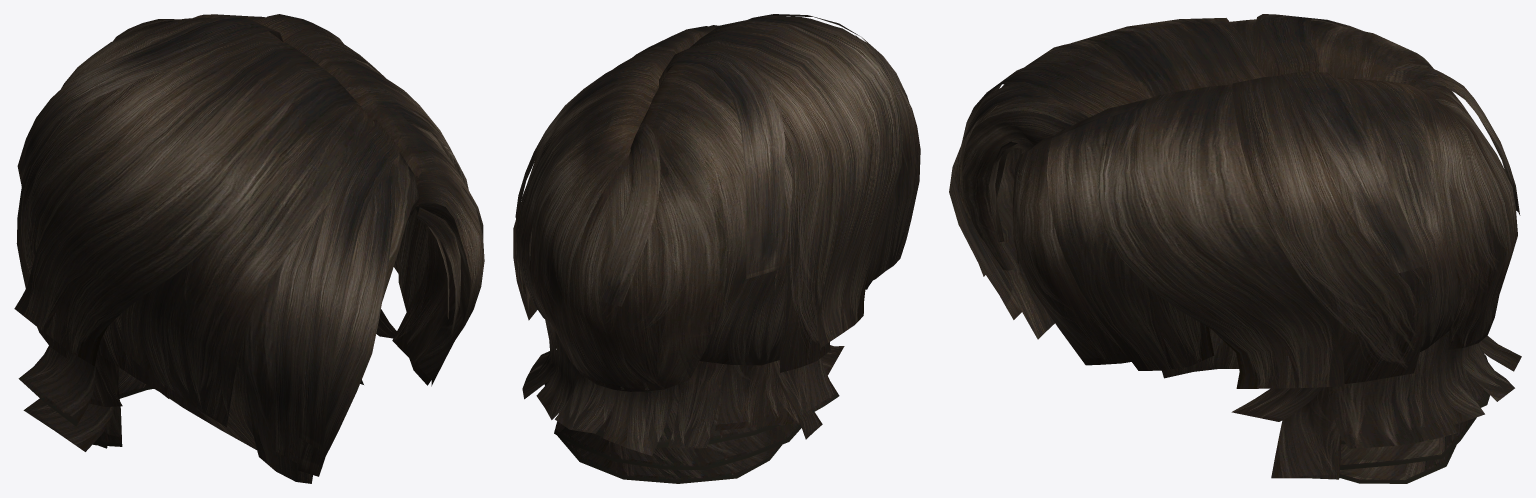
File: hair.obj
3 renders of one model, left to right at view 1: azimuth 30°, elevation 25°; view 2: azimuth 150°, elevation 25°; view 3: azimuth 270°, elevation 25°, orthographic. The views are drawn at different scales.
Parts seen in each view (by area): view 1: leon_RE6:head_group_98, leon_RE6:head_group_97, leon_RE6:head_group_101, leon_RE6:head_group_84, leon_RE6:head_group_96, leon_RE6:head_group_95, leon_RE6:head_group_86, leon_RE6:head_group_94, leon_RE6:head_group_49, leon_RE6:head_group_77, leon_RE6:head_group_92, leon_RE6:head_group_93 (+7 smaller); view 2: leon_RE6:head_group_82, leon_RE6:head_group_83, leon_RE6:head_group_98, leon_RE6:head_group_101, leon_RE6:head_group_84, leon_RE6:head_group_81, leon_RE6:head_group_76, leon_RE6:head_group_97, leon_RE6:head_group_79, leon_RE6:head_group_78, leon_RE6:head_group_77, leon_RE6:head_group_80; view 3: leon_RE6:head_group_98, leon_RE6:head_group_84, leon_RE6:head_group_101, leon_RE6:head_group_83, leon_RE6:head_group_93, leon_RE6:head_group_82, leon_RE6:head_group_76, leon_RE6:head_group_92, leon_RE6:head_group_87, leon_RE6:head_group_81, leon_RE6:head_group_75, leon_RE6:head_group_61 (+6 smaller).
Boxes of the visible parts, x1,y1,x2,y2 form: leon_RE6:head_group_98: (14, 42, 468, 366); leon_RE6:head_group_97: (121, 104, 374, 427); leon_RE6:head_group_101: (17, 14, 400, 451); leon_RE6:head_group_84: (16, 29, 385, 358); leon_RE6:head_group_96: (298, 154, 399, 476); leon_RE6:head_group_95: (272, 205, 327, 462); leon_RE6:head_group_86: (99, 208, 428, 449); leon_RE6:head_group_94: (244, 230, 359, 483); leon_RE6:head_group_49: (392, 227, 462, 385); leon_RE6:head_group_77: (18, 346, 95, 426); leon_RE6:head_group_92: (415, 170, 484, 386); leon_RE6:head_group_93: (343, 86, 483, 237); leon_RE6:head_group_82: (529, 124, 726, 391); leon_RE6:head_group_83: (516, 64, 792, 365); leon_RE6:head_group_98: (632, 17, 902, 347); leon_RE6:head_group_101: (515, 14, 909, 306); leon_RE6:head_group_84: (513, 45, 841, 372); leon_RE6:head_group_81: (536, 330, 726, 455); leon_RE6:head_group_76: (522, 222, 844, 430); leon_RE6:head_group_97: (763, 16, 920, 282); leon_RE6:head_group_79: (554, 416, 801, 469); leon_RE6:head_group_78: (557, 435, 781, 483); leon_RE6:head_group_77: (774, 358, 839, 419); leon_RE6:head_group_80: (544, 342, 797, 447); leon_RE6:head_group_98: (1071, 18, 1344, 388); leon_RE6:head_group_84: (1230, 19, 1423, 383); leon_RE6:head_group_101: (960, 14, 1520, 276); leon_RE6:head_group_83: (1310, 20, 1460, 351); leon_RE6:head_group_93: (1046, 100, 1214, 370); leon_RE6:head_group_82: (1397, 53, 1517, 349); leon_RE6:head_group_76: (1231, 340, 1459, 448); leon_RE6:head_group_92: (1012, 136, 1131, 365); leon_RE6:head_group_87: (961, 98, 1088, 270); leon_RE6:head_group_81: (1433, 331, 1521, 424); leon_RE6:head_group_75: (1271, 387, 1341, 479); leon_RE6:head_group_61: (957, 147, 1053, 339).
Bounding box in the file's own units: 3.49 × 4.05 × 5.09.
